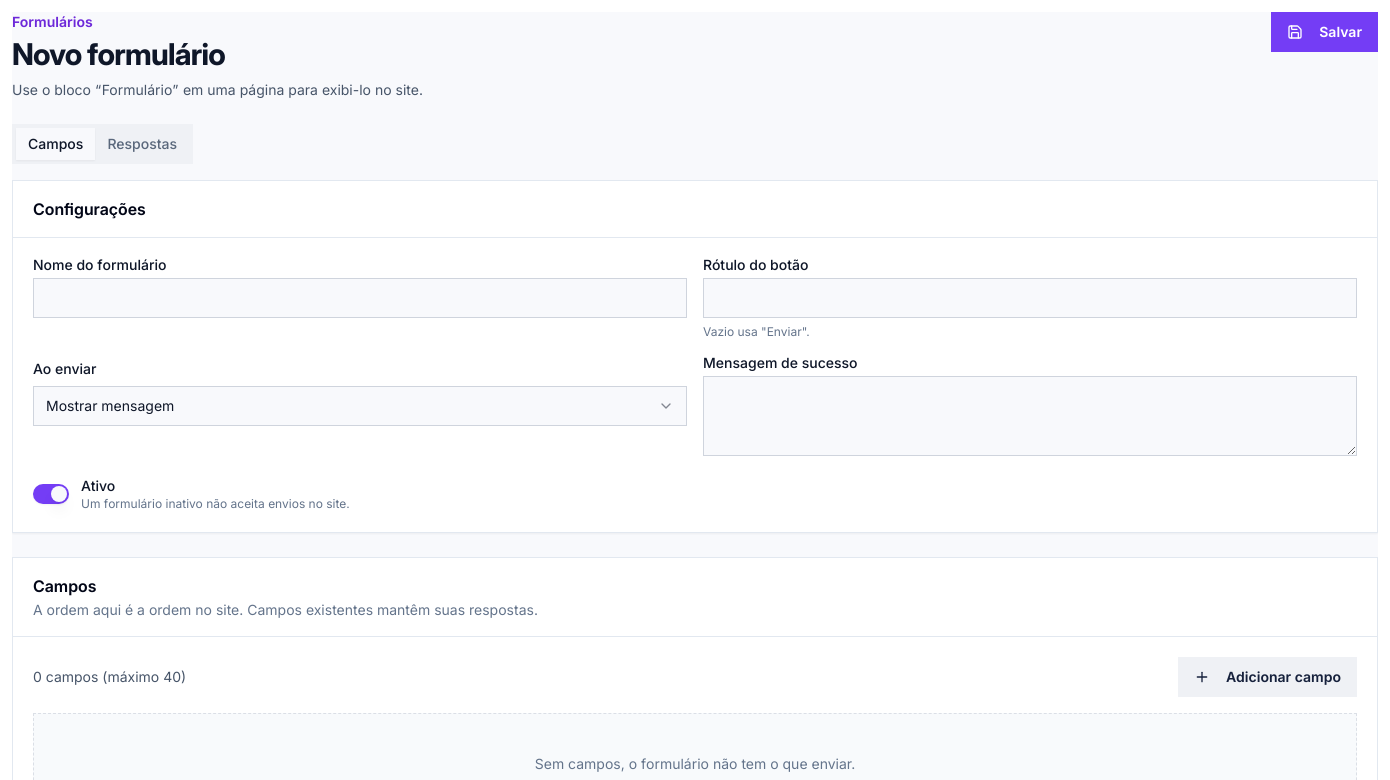
Test: FormEditor › refuses to save without a name and points at the problem
Step 1. Click the button named "salvar" in the row of "Novo formulário" → (1325, 32), box [1271, 12, 1378, 52]
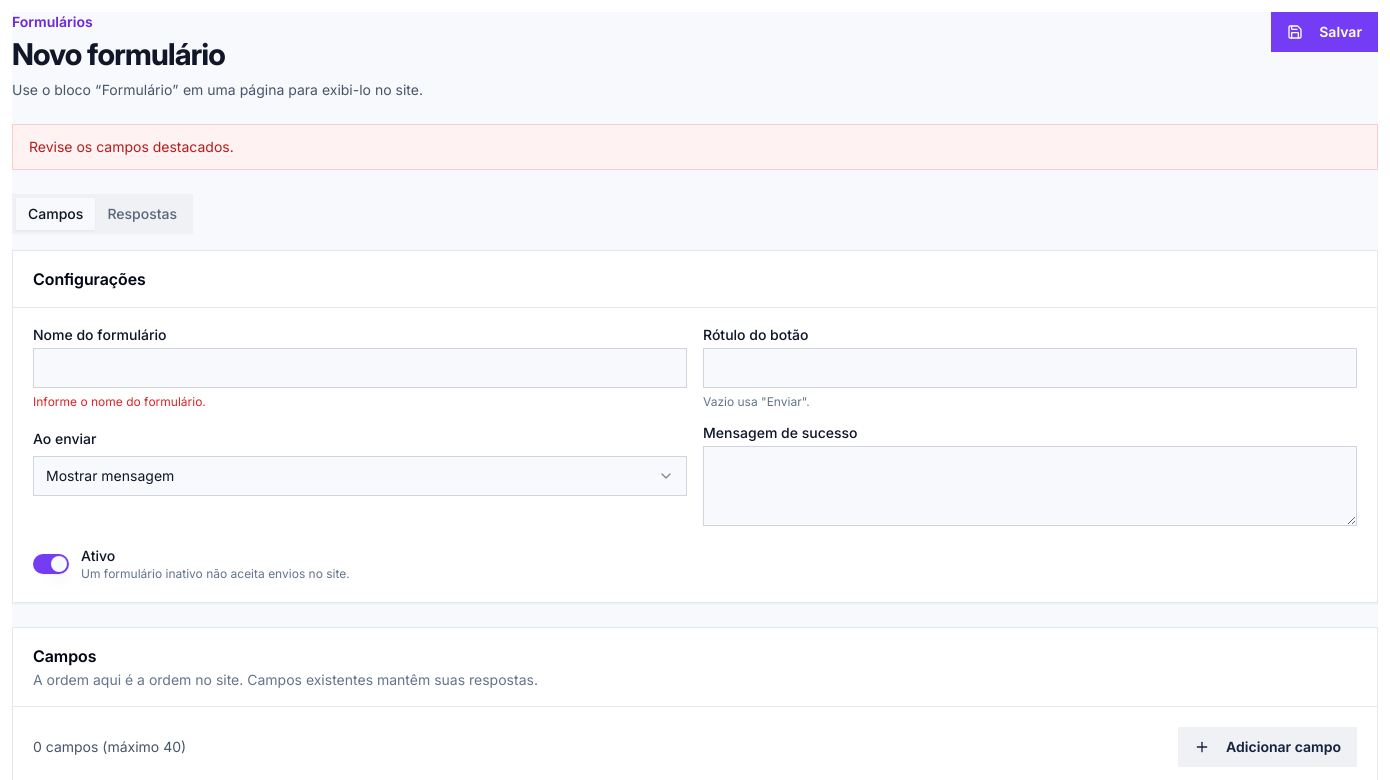
expect the text "Informe o nome do formulário." is shown: met, box [33, 394, 206, 409]
